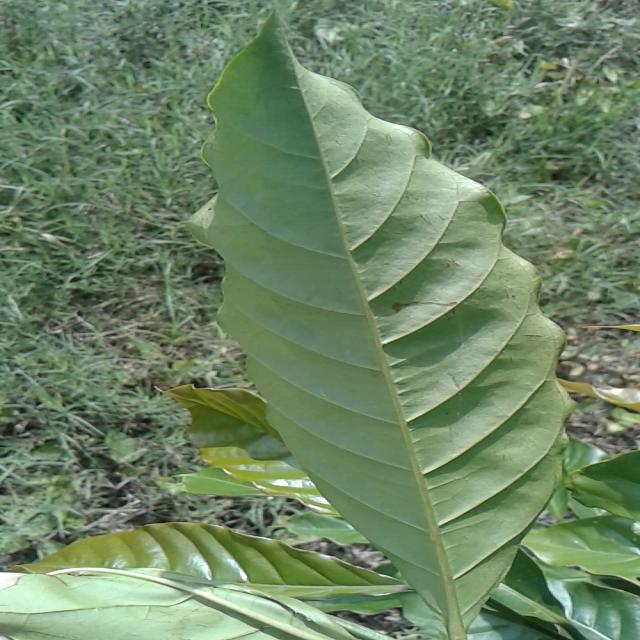Enfermedad-Roya: (182, 12, 576, 640)
